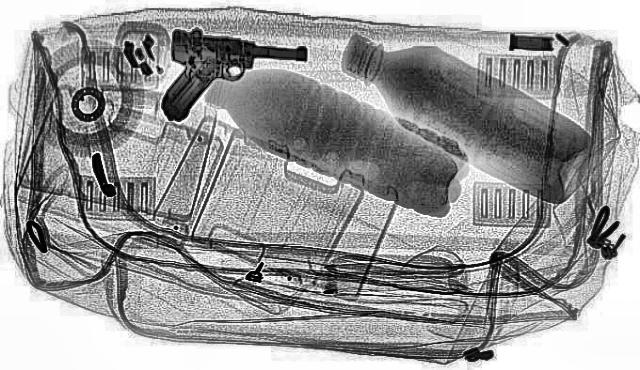Gun: (135, 27, 315, 133)
